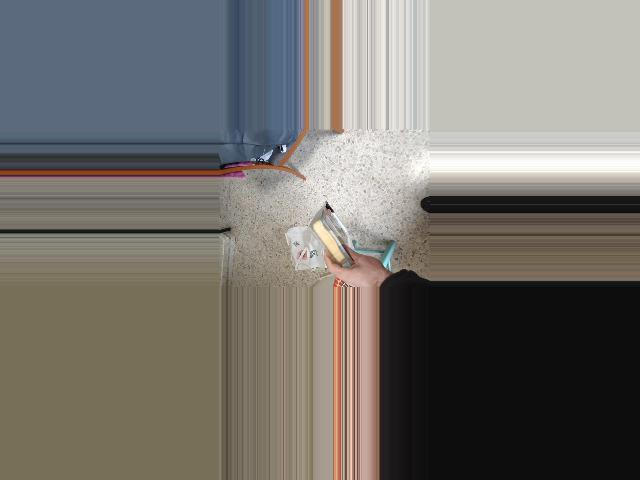cheese: (308, 201, 360, 283)
